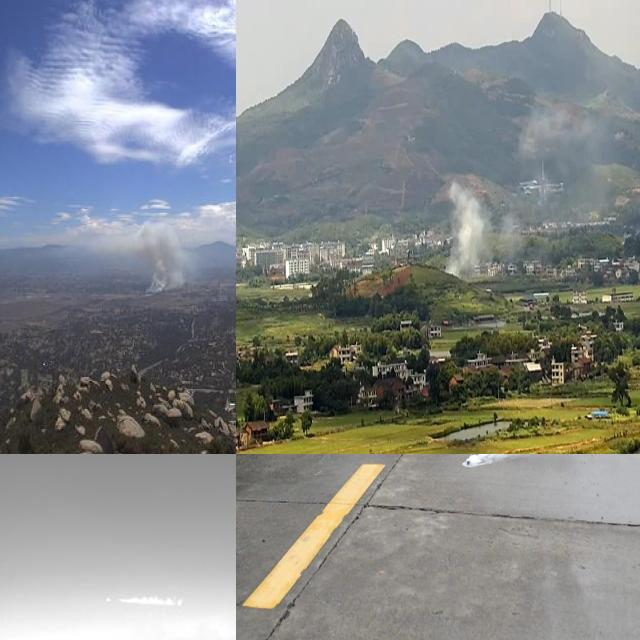smoke: (132, 217, 200, 297), (518, 107, 607, 159), (444, 181, 486, 280), (497, 214, 525, 255)
